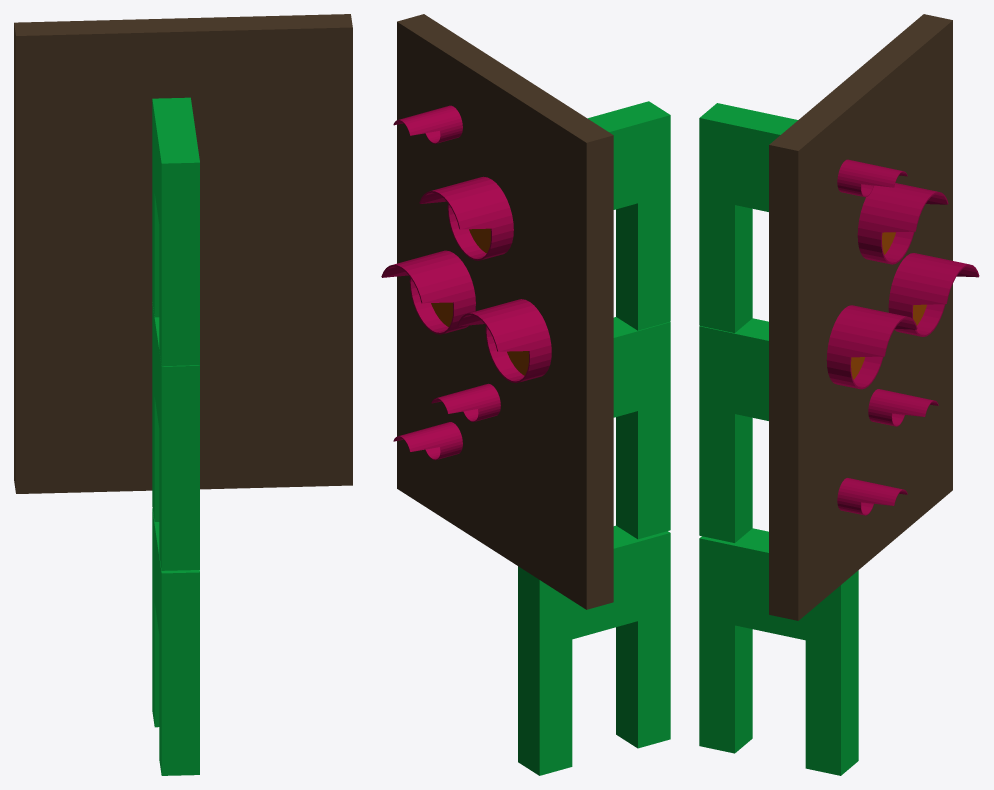
File: advtrains_signals_ks_main_smr30.obj
The picture shows the model from 3 angles, left to right: view 1: azimuth 30°, elevation 25°; view 2: azimuth 150°, elevation 25°; view 3: azimuth 270°, elevation 25°; orthographic projection. The views are drawn at different scales.
Visible parts, largest first — view 1: KsHauptsignal_Plane.006_Schirm, KsHauptsignal_Plane.006_Mast; view 2: KsHauptsignal_Plane.006_Schirm, KsHauptsignal_Plane.006_Mast, KsHauptsignal_Plane.006_Lampenrahmen, KsHauptsignal_Plane.006_Lights; view 3: KsHauptsignal_Plane.006_Schirm, KsHauptsignal_Plane.006_Mast, KsHauptsignal_Plane.006_Lampenrahmen, KsHauptsignal_Plane.006_Lights.
Boxes of the visible parts, x1,y1,x2,y2 form: KsHauptsignal_Plane.006_Schirm: (14, 14, 352, 493); KsHauptsignal_Plane.006_Mast: (152, 97, 199, 775); KsHauptsignal_Plane.006_Schirm: (397, 14, 613, 609); KsHauptsignal_Plane.006_Mast: (518, 101, 670, 775); KsHauptsignal_Plane.006_Lampenrahmen: (381, 105, 551, 460); KsHauptsignal_Plane.006_Lights: (431, 228, 528, 375); KsHauptsignal_Plane.006_Schirm: (769, 14, 952, 620); KsHauptsignal_Plane.006_Mast: (699, 103, 858, 775); KsHauptsignal_Plane.006_Lampenrahmen: (826, 159, 979, 515); KsHauptsignal_Plane.006_Lights: (851, 232, 926, 379).
Size of the model in its own units: 0.4685 by 1.11 by 0.4045.
